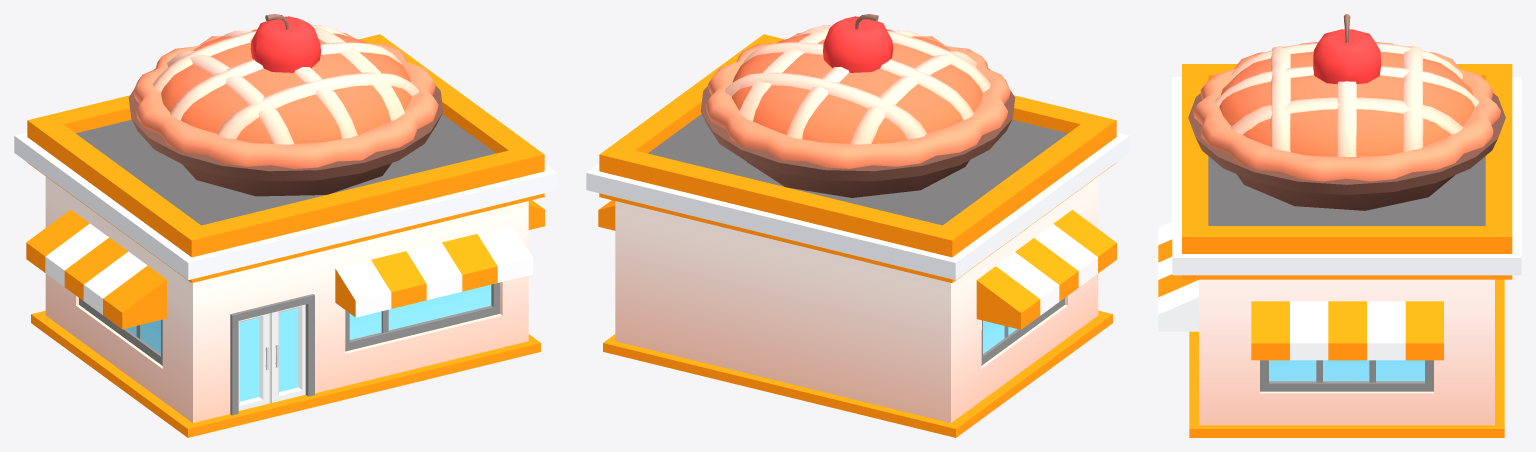
The model's file is city2-building-snack-02.glb.
The picture shows the model from 3 angles, left to right: view 1: azimuth 30°, elevation 25°; view 2: azimuth 150°, elevation 25°; view 3: azimuth 270°, elevation 25°; orthographic projection.
Visible parts, largest first — view 1: Building_Snack_02; view 2: Building_Snack_02; view 3: Building_Snack_02.
Part boxes in pixels (x1,y1,x2,y2): Building_Snack_02: (14,14,557,437); Building_Snack_02: (586,14,1129,437); Building_Snack_02: (1158,14,1521,437).
Size of the model in its own units: 10.18 by 7.52 by 7.55.
Materials: 1 (1 with a texture image).
